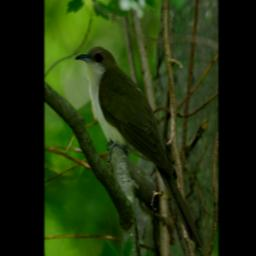Cuckoo: (74, 45, 205, 254)
